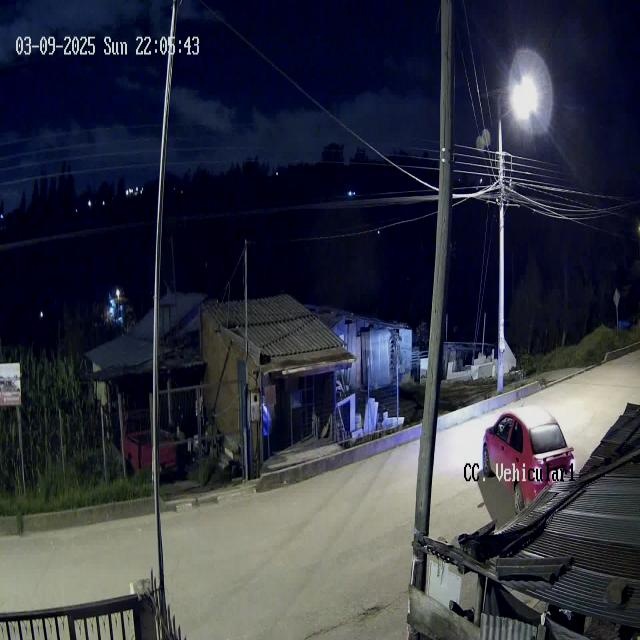SED: (481, 403, 578, 511)
